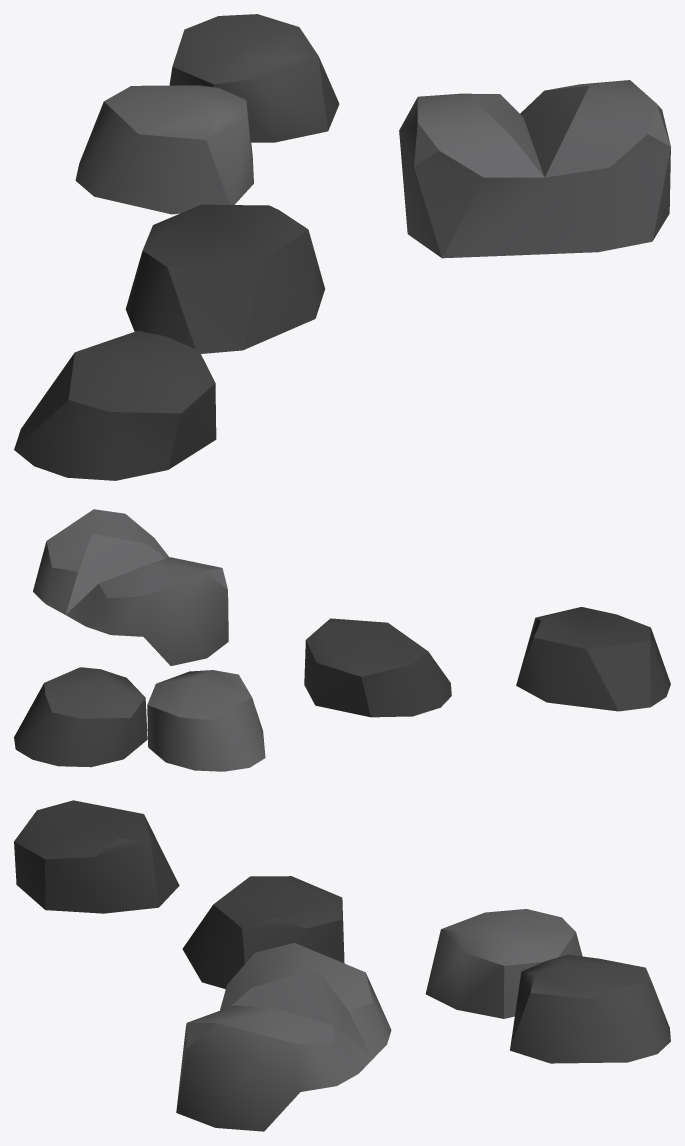
The model's file is ea_swamp_stones_02a_pre__4__lev1.glb.
3 renders of one model, top to bottom at view 1: azimuth 30°, elevation 25°; view 2: azimuth 150°, elevation 25°; view 3: azimuth 270°, elevation 25°, orthographic. The views are drawn at different scales.
Visible parts, largest first — view 1: ea_swamp_stones_02a_pre__4__lev1; view 2: ea_swamp_stones_02a_pre__4__lev1; view 3: ea_swamp_stones_02a_pre__4__lev1.
Boxes of the visible parts, bbox=[...] form: ea_swamp_stones_02a_pre__4__lev1: bbox=[14, 14, 670, 480]; ea_swamp_stones_02a_pre__4__lev1: bbox=[14, 509, 670, 771]; ea_swamp_stones_02a_pre__4__lev1: bbox=[14, 800, 670, 1131].
Bounding box in the file's own units: 2.29 × 0.4187 × 2.04.
Materials: 1 (1 with a texture image).
